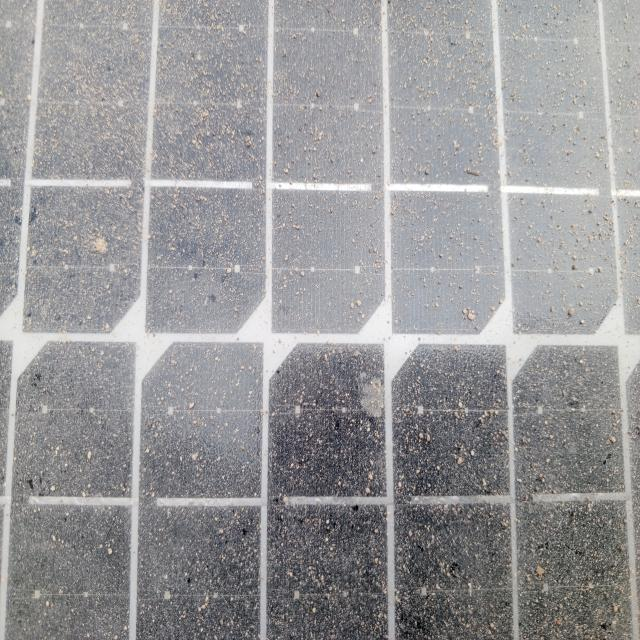Anomaly Solar Panel: (7, 12, 636, 629)
Surface Contaminant: (7, 12, 636, 629)
